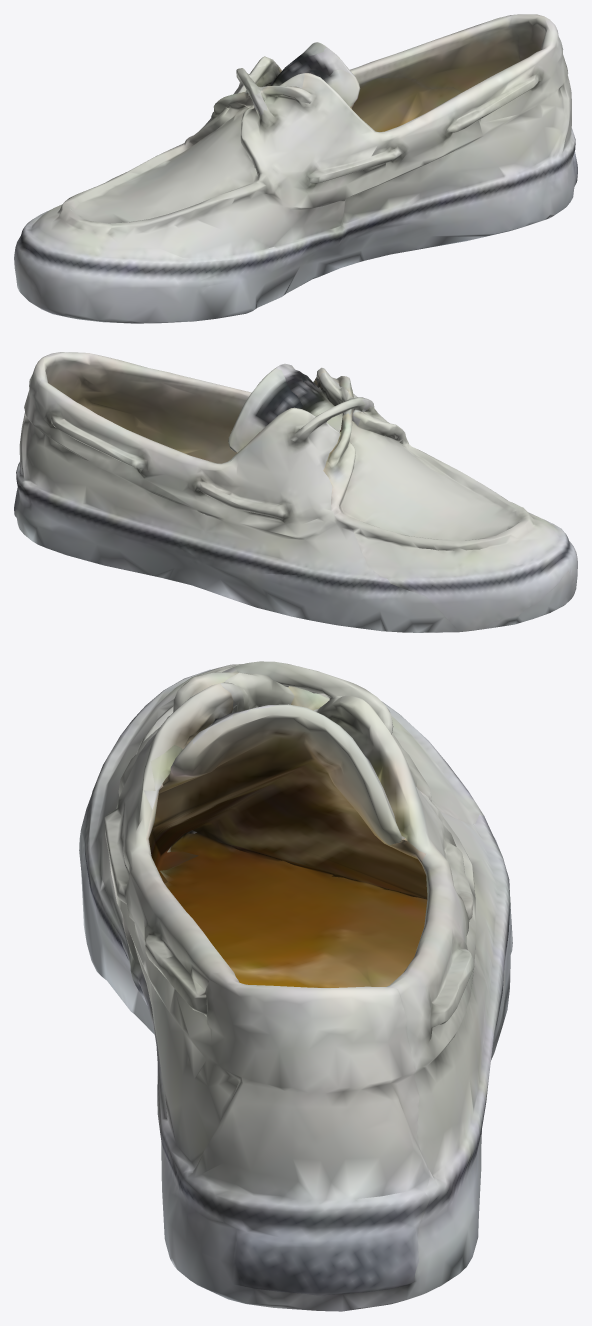
The model's file is Womens_Sequin_Bahama_in_White_Sequin_V9K1hf24Oxe-high.glb.
The picture shows the model from 3 angles, top to bottom: view 1: azimuth 30°, elevation 25°; view 2: azimuth 150°, elevation 25°; view 3: azimuth 270°, elevation 25°; orthographic projection. The views are drawn at different scales.
Parts seen in each view (by area): view 1: Womens_Sequin_Bahama_in_White_Sequin_V9K1hf24Oxe; view 2: Womens_Sequin_Bahama_in_White_Sequin_V9K1hf24Oxe; view 3: Womens_Sequin_Bahama_in_White_Sequin_V9K1hf24Oxe.
Boxes of the visible parts, left/top/right/bottom form: Womens_Sequin_Bahama_in_White_Sequin_V9K1hf24Oxe: left=14, top=14, right=577, bottom=323; Womens_Sequin_Bahama_in_White_Sequin_V9K1hf24Oxe: left=14, top=352, right=577, bottom=632; Womens_Sequin_Bahama_in_White_Sequin_V9K1hf24Oxe: left=79, top=661, right=512, bottom=1311.
Size of the model in its own units: 0.249 by 0.087 by 0.0883.
Materials: 1 (1 with a texture image).
